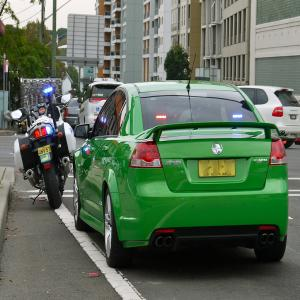Vehicle-registration-plate: (198, 159, 236, 177), (39, 145, 52, 157), (292, 116, 298, 120)
